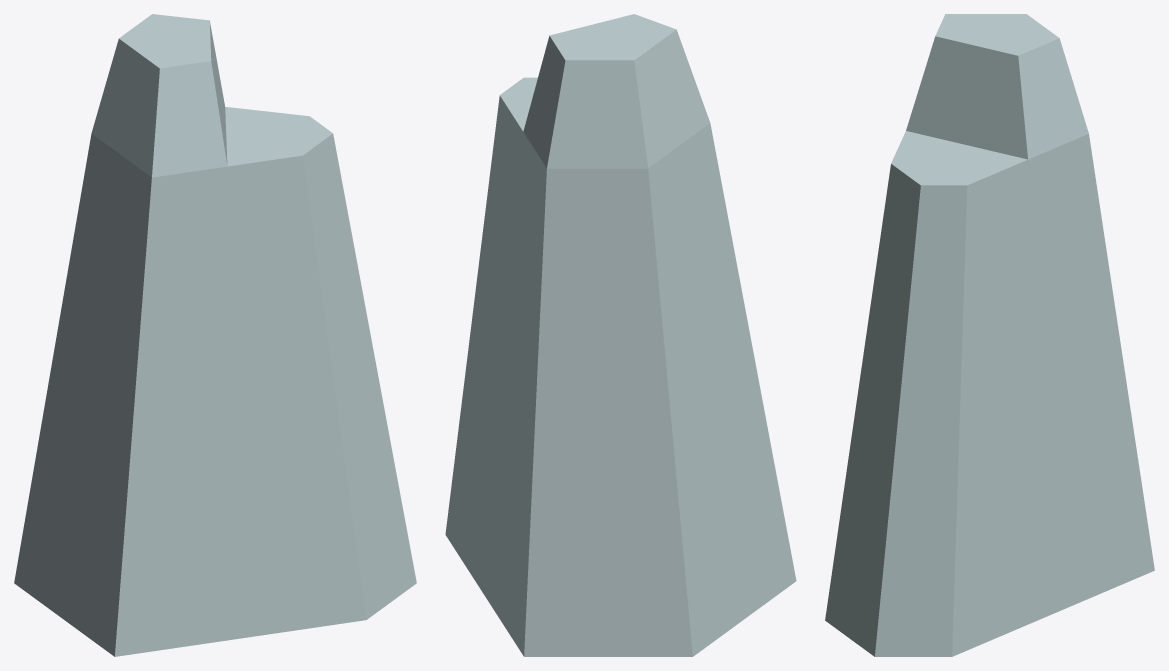
File: henge-stone.glb
The picture shows the model from 3 angles, left to right: view 1: azimuth 30°, elevation 25°; view 2: azimuth 150°, elevation 25°; view 3: azimuth 270°, elevation 25°; orthographic projection. The views are drawn at different scales.
Parts seen in each view (by area): view 1: stone_tallC; view 2: stone_tallC; view 3: stone_tallC.
Part boxes in pixels (x1,y1,x2,y2): stone_tallC: (14,14,416,656); stone_tallC: (445,14,796,656); stone_tallC: (825,14,1154,656).
Size of the model in its own units: 0.4562 by 0.7829 by 0.4365.
